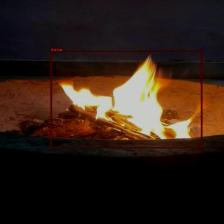fire: (50, 51, 202, 148)
